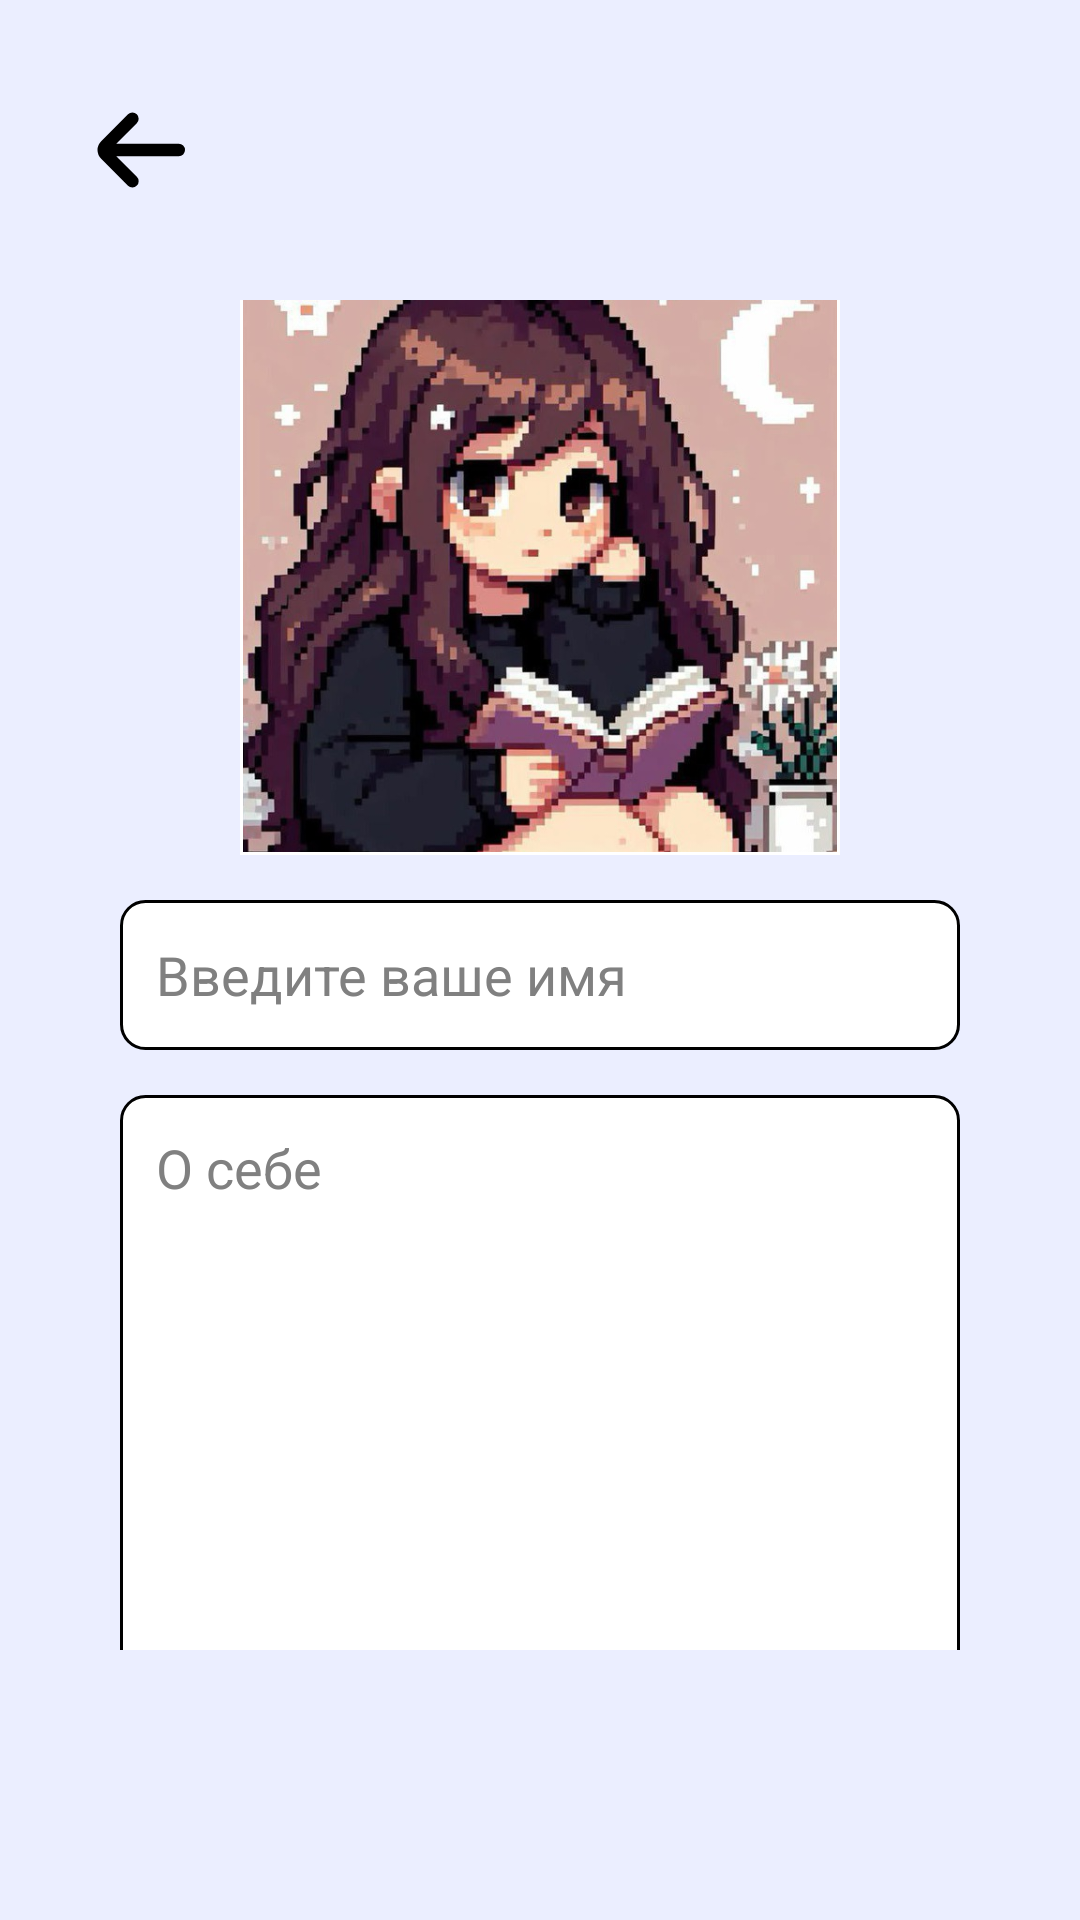

Icons on this 1080 x 1920 Android screen, each with its box as (x1, y1, x2, y2):
Назад: (97, 112, 185, 188)
